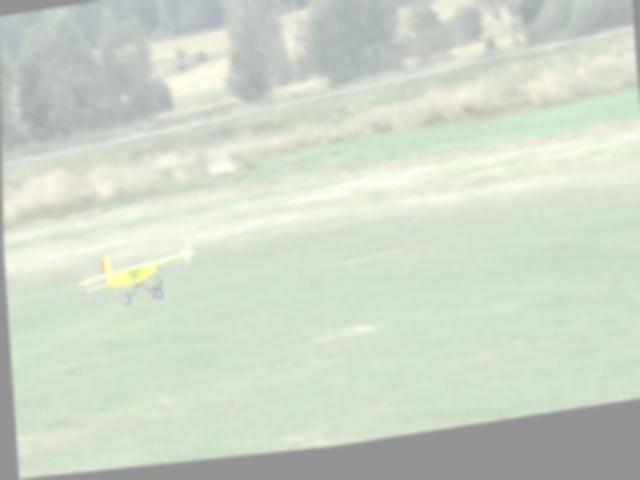plane: (76, 246, 199, 315)
